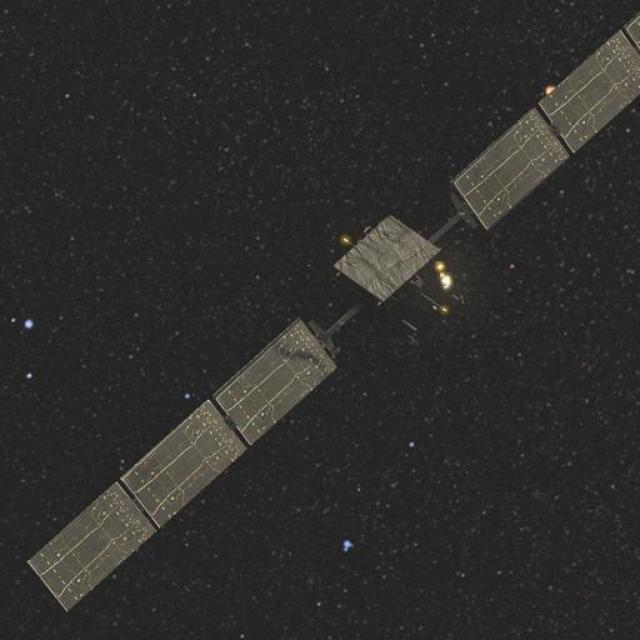smart_1: (252, 129, 526, 394)
